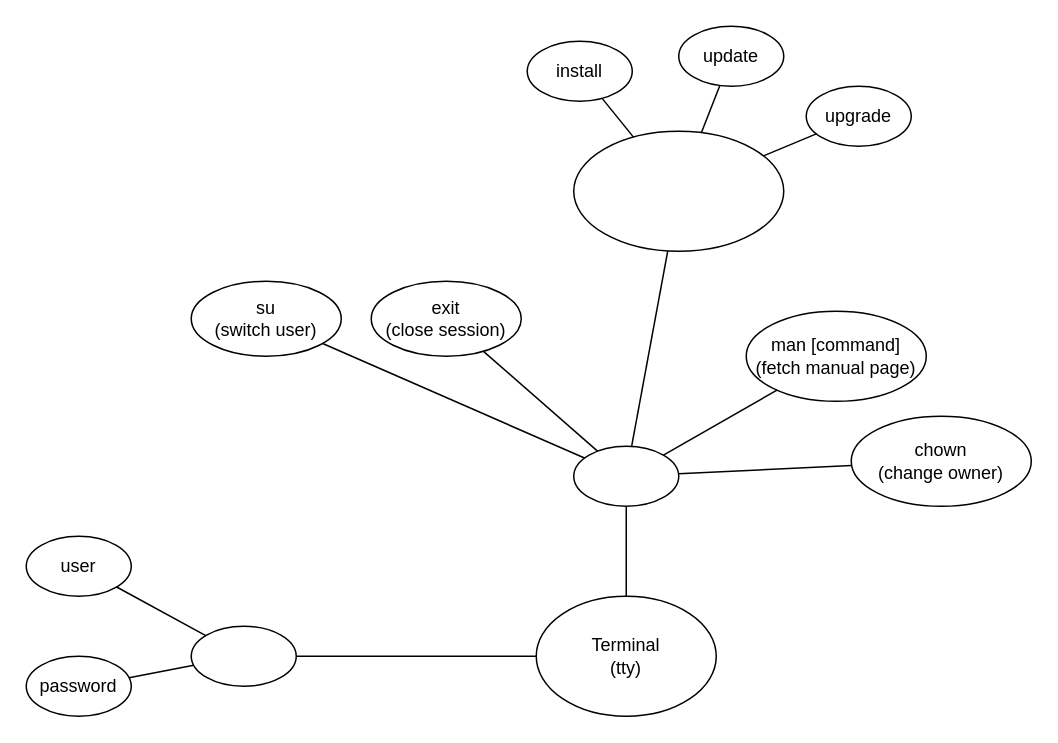
The diagram is 1058 pixels wide and 743 high, and some of its shapes have lost their labels. Here are the shapes that lost their labels. From the top down, the centre of each, then its label:
the point at 678,190: apt (aptitude) (package manager)
the point at 625,475: Commands
the point at 243,655: Login
